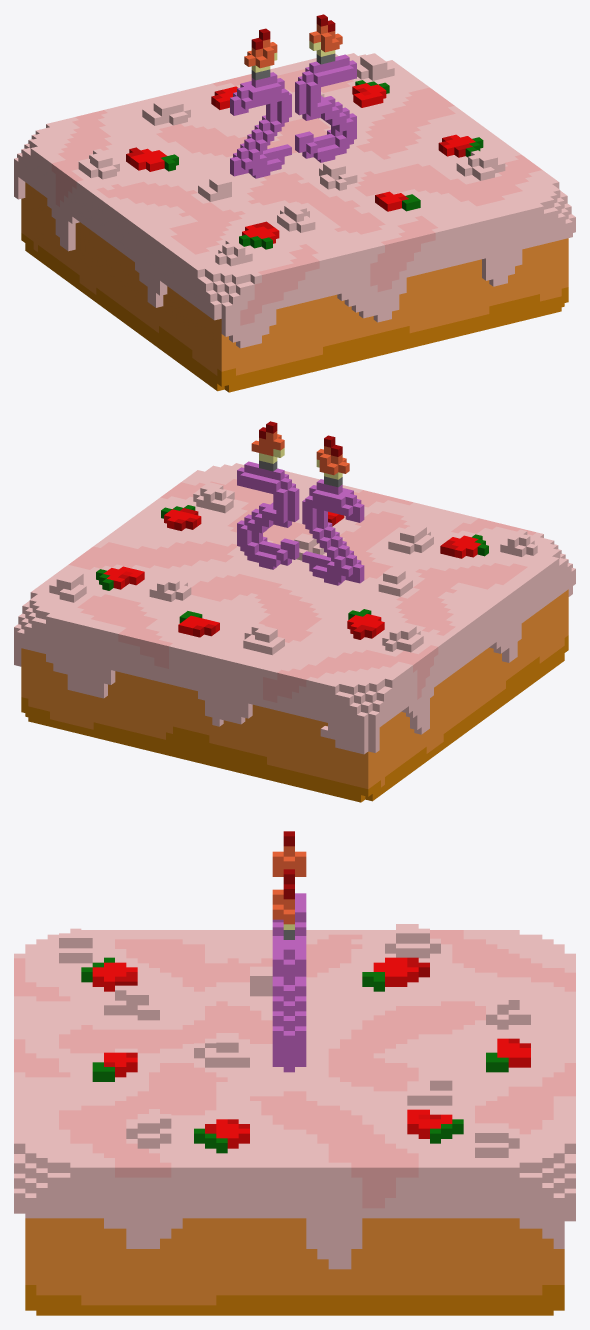
The model's file is cake251.glb.
3 views of the same model, one above another, from view 1: azimuth 30°, elevation 25°; view 2: azimuth 150°, elevation 25°; view 3: azimuth 270°, elevation 25° (orthographic). The views are drawn at different scales.
Parts seen in each view (by area): view 1: Node1; view 2: Node1; view 3: Node1.
Part boxes in pixels (box(x1,y1,x2,y2)): Node1: box(14, 14, 575, 392); Node1: box(14, 421, 575, 802); Node1: box(14, 831, 575, 1315).
Size of the model in its own units: 5 by 3.4 by 5.
1 material, 1 textured.
